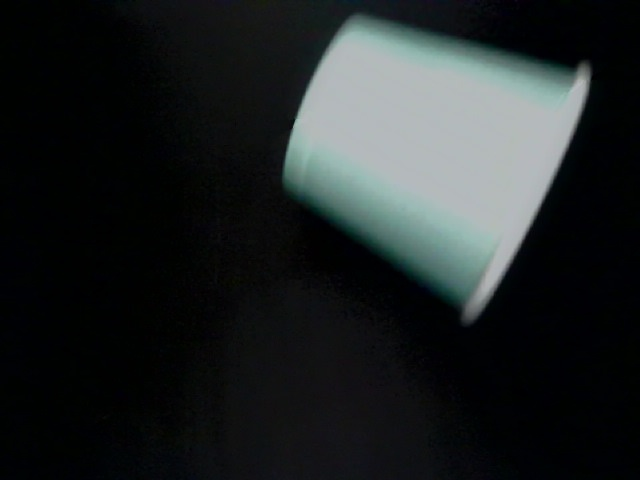KHSLJ: (131, 1, 639, 164)
